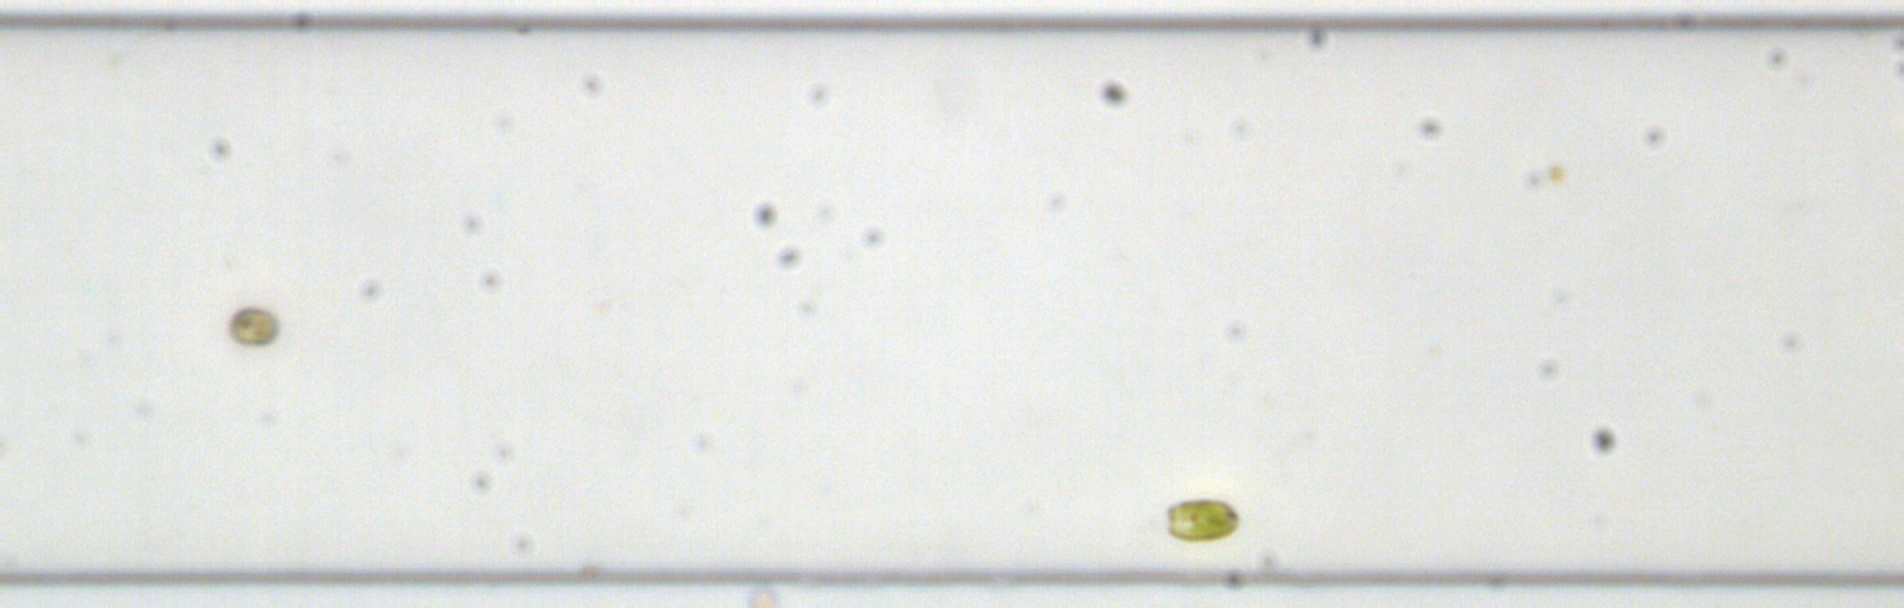Chlorella: (1545, 161, 1566, 183)
Effrenium: (222, 303, 282, 351)
Platymonas: (1162, 494, 1242, 545)
